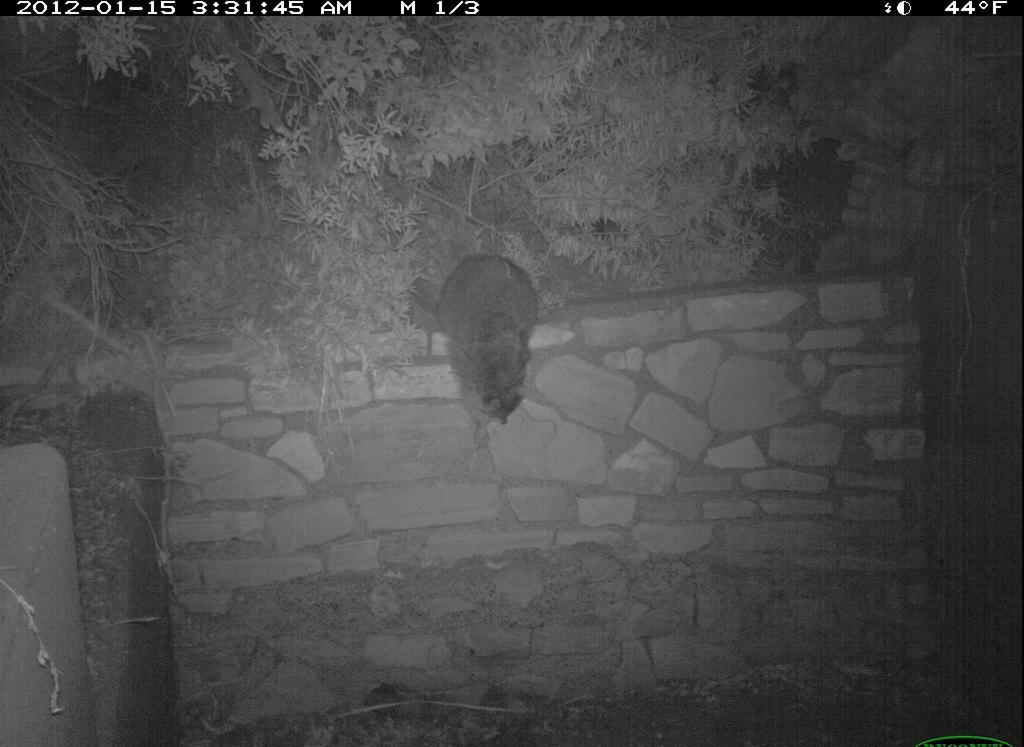raccoon: (413, 248, 550, 434)
